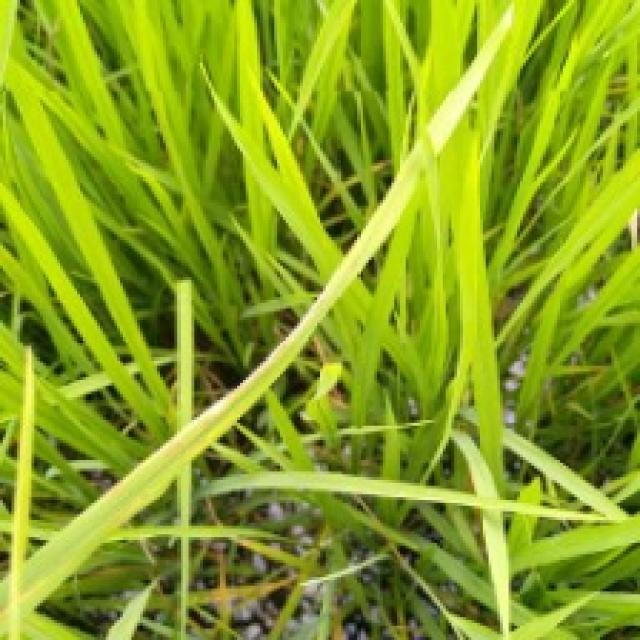Rice___Bacterial_Leaf_Blight: (0, 0, 519, 637)
